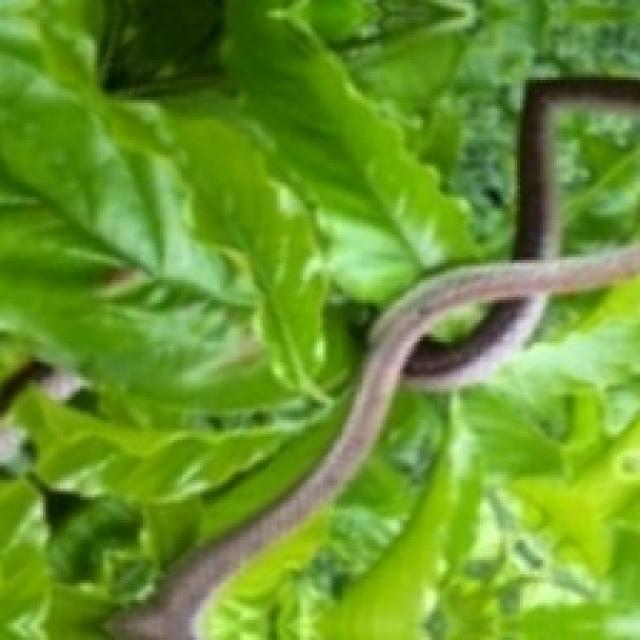paradise tree snake: (111, 77, 637, 637)
